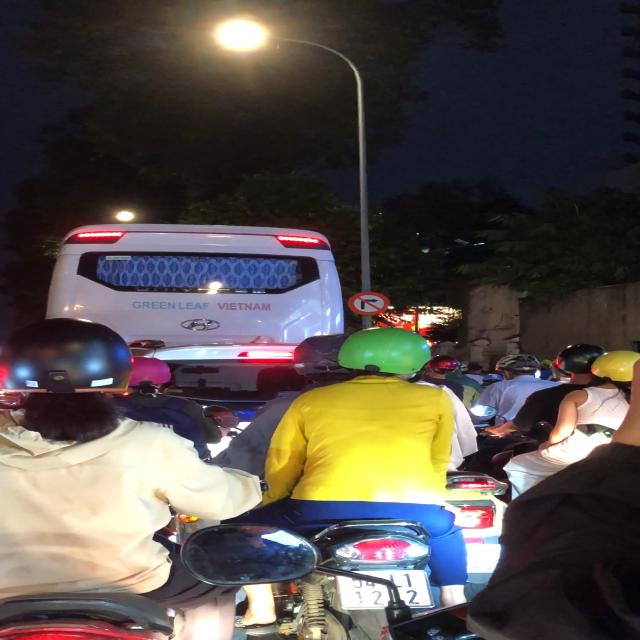Bien bao cam re phai: (346, 291, 391, 316)
